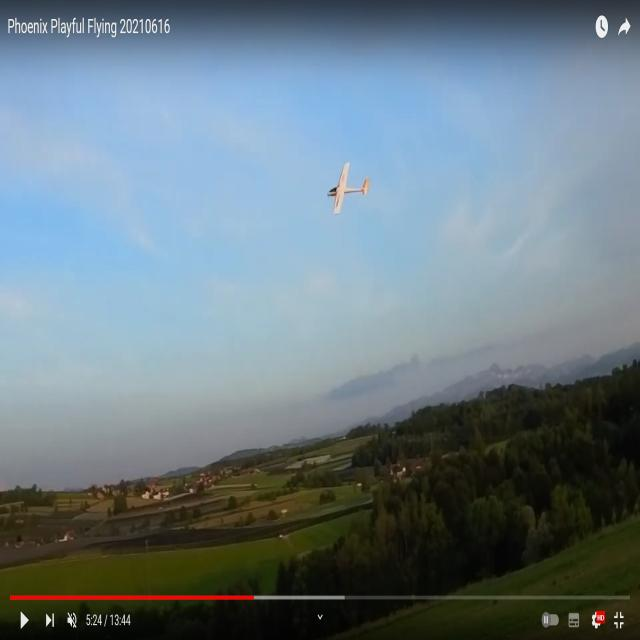iha: (328, 164, 372, 218)
